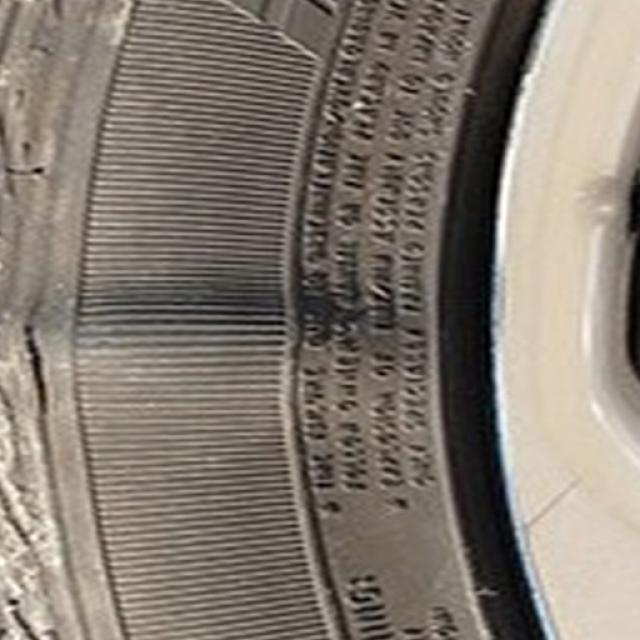Bulge: (57, 268, 371, 384)
